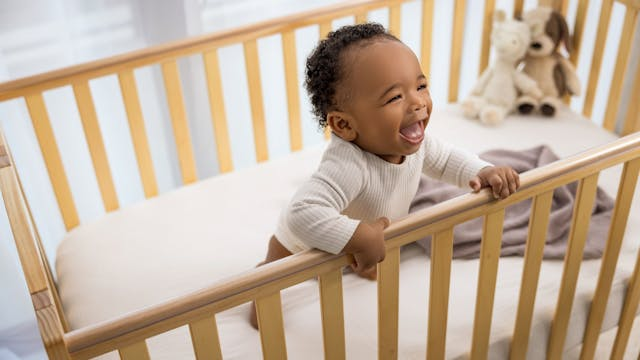baby: (263, 23, 518, 278)
crib: (358, 0, 639, 358)
